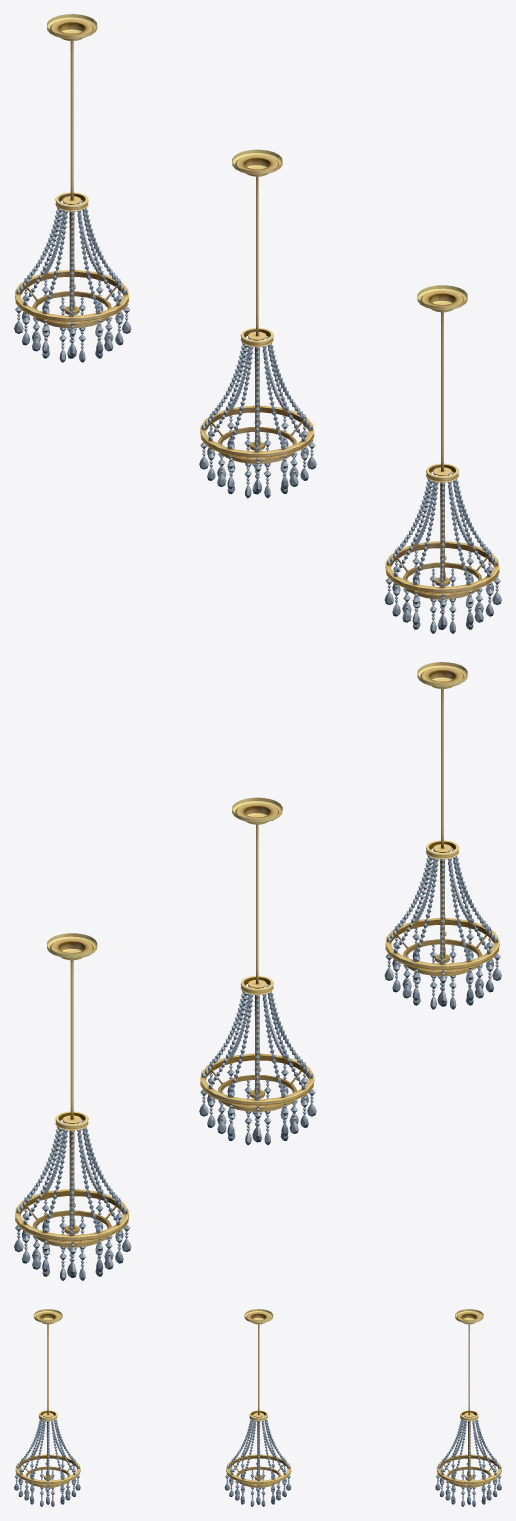
Rendered from CommunityRoomB_Chandelier.fbx.
3 views of the same model, one above another, from view 1: azimuth 30°, elevation 25°; view 2: azimuth 150°, elevation 25°; view 3: azimuth 270°, elevation 25° (orthographic). The views are drawn at different scales.
Visible parts, largest first — view 1: CommunityRoomB_Chandelier; view 2: CommunityRoomB_Chandelier; view 3: CommunityRoomB_Chandelier.
Part boxes in pixels (box(x1,y1,x2,y2)): CommunityRoomB_Chandelier: box(14, 14, 501, 633); CommunityRoomB_Chandelier: box(14, 662, 501, 1280); CommunityRoomB_Chandelier: box(14, 1309, 501, 1506).
Size of the model in its own units: 136 by 426 by 992.
